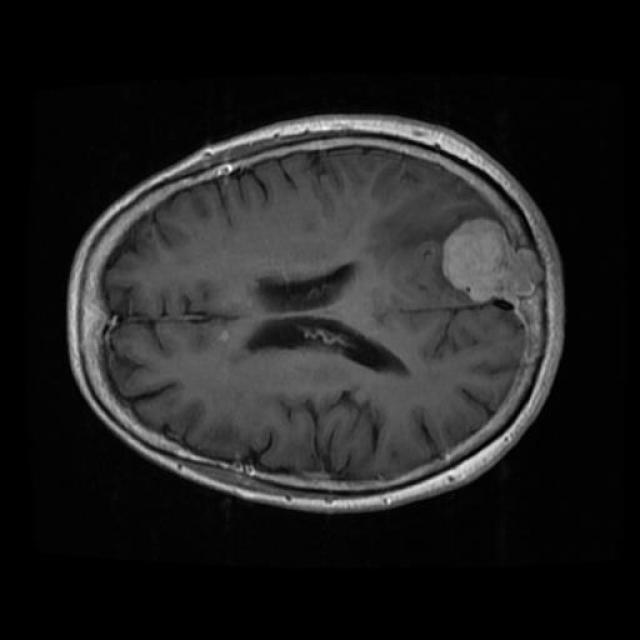Meningioma: (443, 218, 541, 309)
